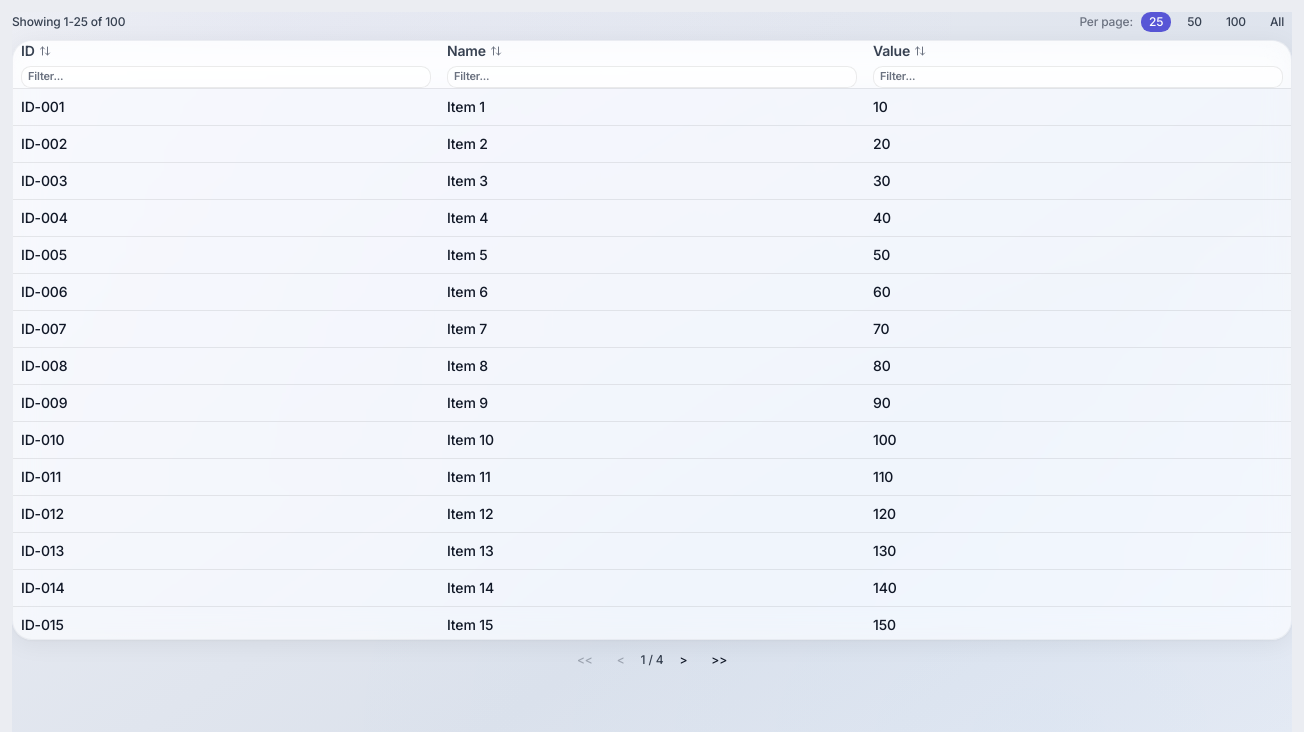
it: DataTable › paginates when data exceeds page size
The width and height of the screenshot is (1304, 732).
Expected: the text "ID-001" is shown, [13, 88, 439, 125]
Navigate to next page
Click the button ">" at (683,660), box [672, 648, 695, 672]
(page scrolled)
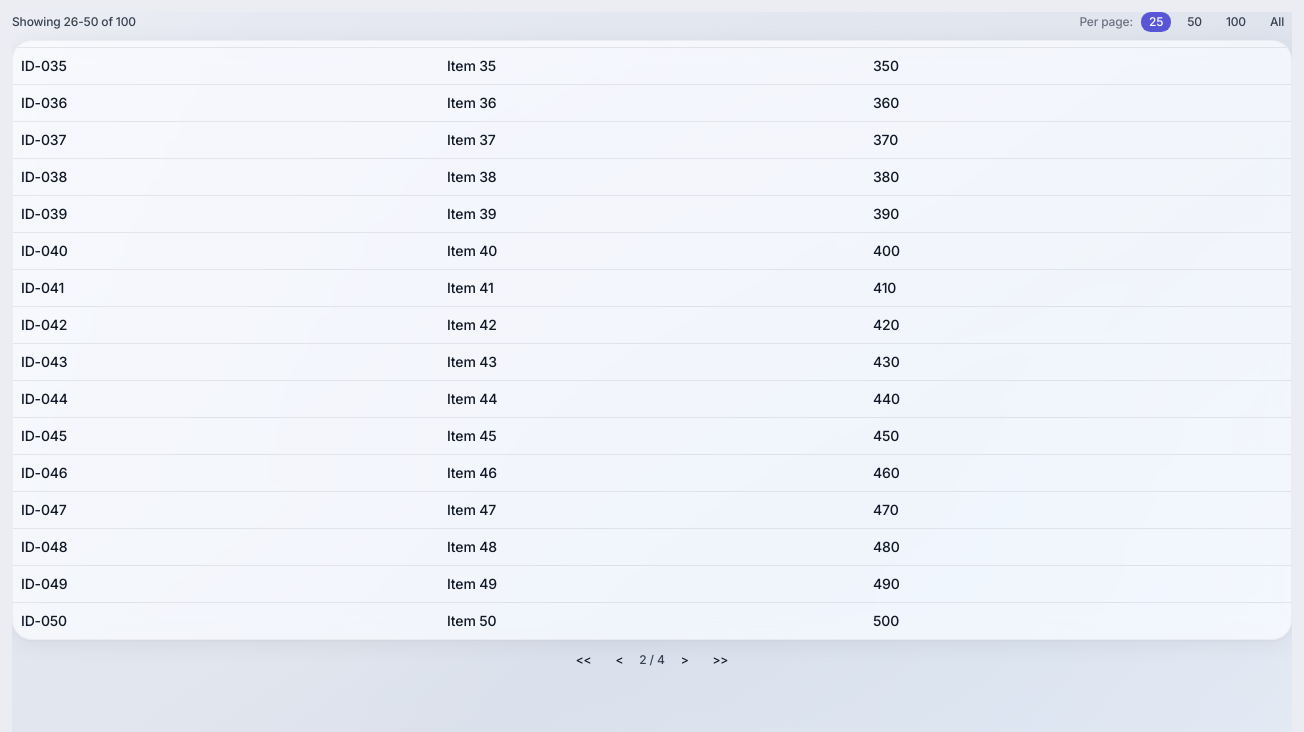
Result: the text "ID-050" is shown at [13, 602, 439, 639]
Result: the text "ID-001" is gone
